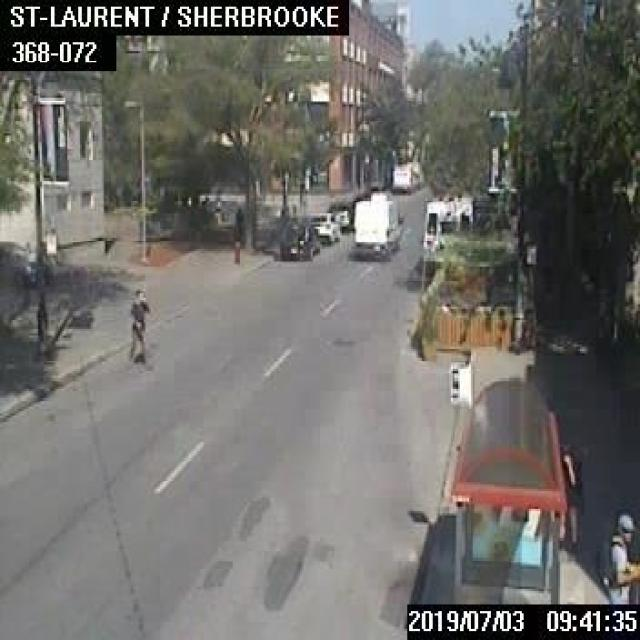pedestrian: (600, 511, 638, 602), (557, 442, 580, 548), (128, 289, 148, 362)
vehicle: (351, 188, 403, 253), (421, 196, 471, 250), (0, 237, 47, 286), (278, 220, 319, 258), (304, 212, 339, 242), (325, 200, 351, 230), (391, 162, 416, 190)
